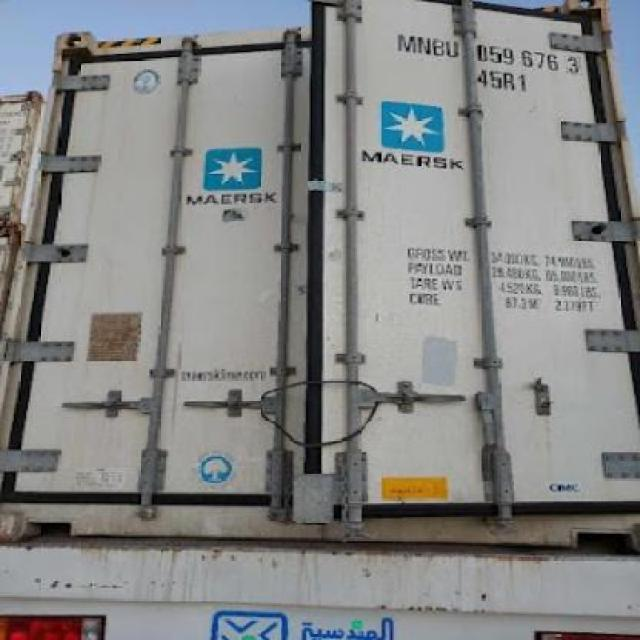ISO: (477, 68, 528, 92)
container_number: (400, 41, 578, 71)
